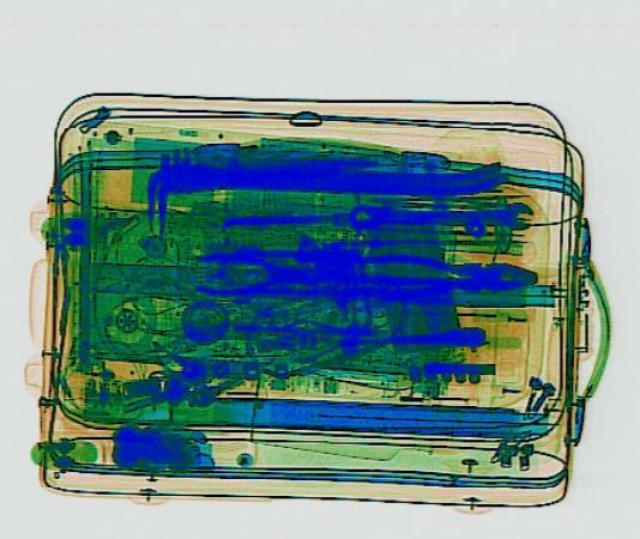Pliers: (348, 234, 536, 307), (192, 246, 322, 301)
Wrench: (350, 199, 534, 228)
